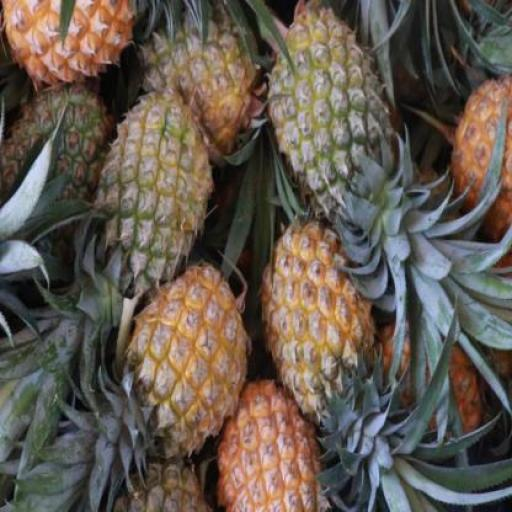------------------------------: (269, 2, 389, 216), (97, 97, 206, 291), (137, 1, 257, 158)
Pineapple - v8 v1: (264, 217, 374, 413), (131, 260, 243, 448), (214, 365, 327, 512)
